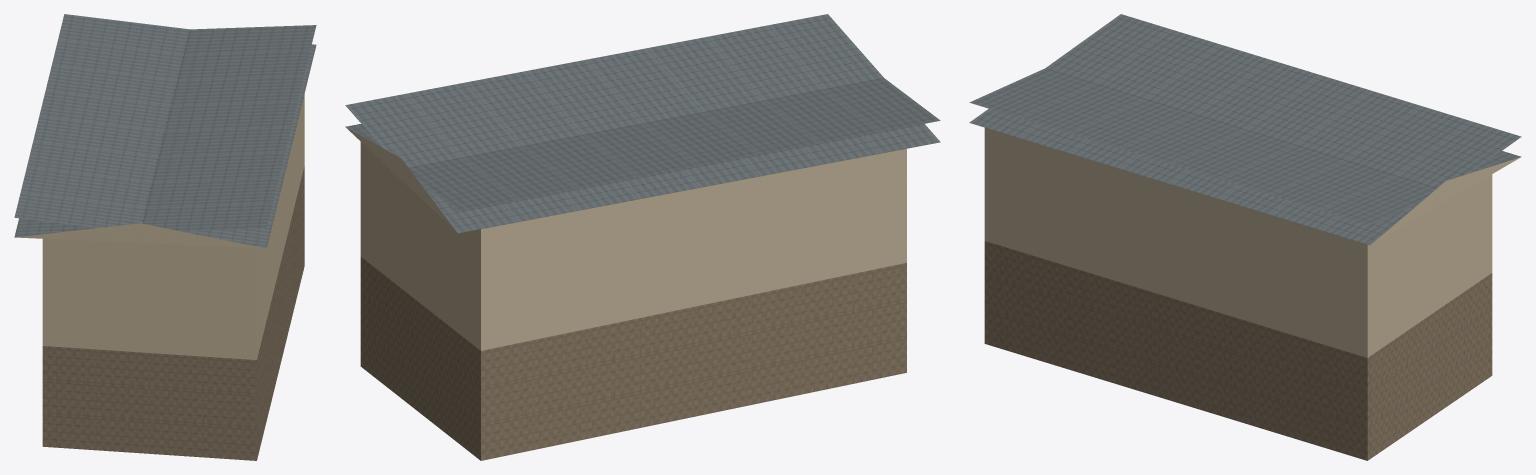
File: bld_c-20_18_524.gltf
3 renders of one model, left to right at view 1: azimuth 30°, elevation 25°; view 2: azimuth 150°, elevation 25°; view 3: azimuth 270°, elevation 25°, orthographic. The views are drawn at different scales.
Parts seen in each view (by area): view 1: bld_c-20_18_524; view 2: bld_c-20_18_524; view 3: bld_c-20_18_524.
Part boxes in pixels (box(x1,y1,x2,y2)): bld_c-20_18_524: box(14, 14, 316, 460); bld_c-20_18_524: box(345, 14, 940, 460); bld_c-20_18_524: box(969, 14, 1521, 460).
Size of the model in its own units: 22.45 by 12 by 24.82.
Materials: 4 (4 with a texture image).
